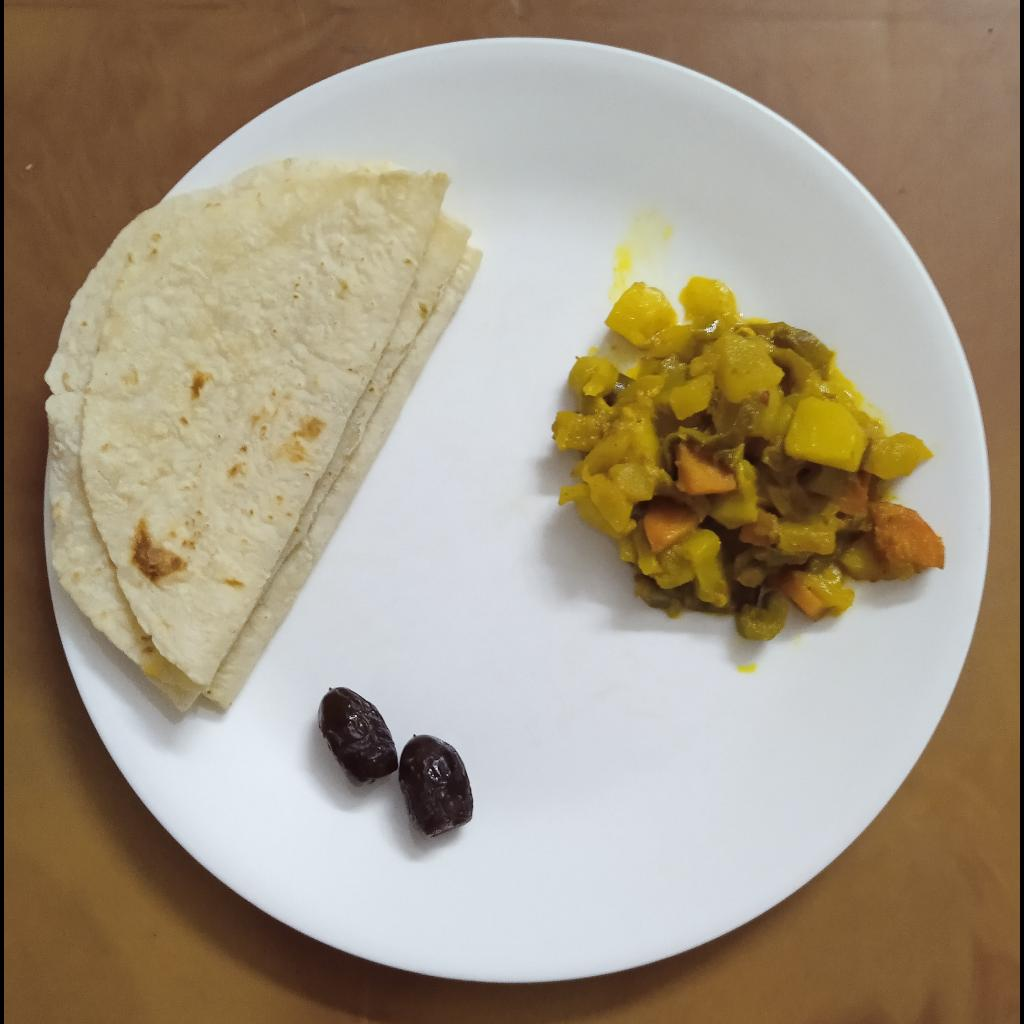dates: (315, 682, 475, 839)
ruti: (46, 158, 485, 713)
vegetable: (551, 280, 952, 639)
